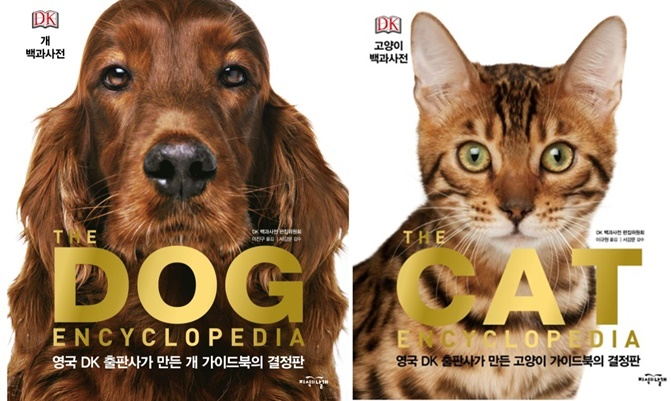cat: (356, 12, 671, 399)
dog: (2, 1, 353, 401)
